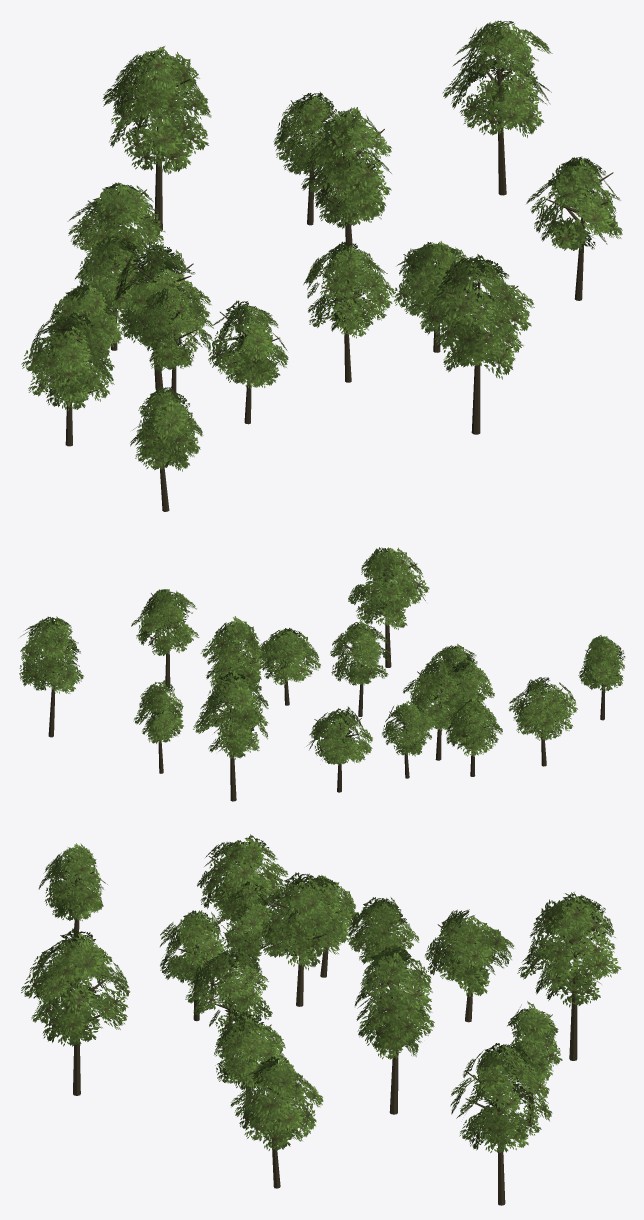
File: TRB8-FOREST-CHUNK-8-1.glb
3 renders of one model, top to bottom at view 1: azimuth 30°, elevation 25°; view 2: azimuth 150°, elevation 25°; view 3: azimuth 270°, elevation 25°, orthographic. The views are drawn at different scales.
Visible parts, largest first — view 1: TRB8-FOREST-CHUNK-8-1; view 2: TRB8-FOREST-CHUNK-8-1; view 3: TRB8-FOREST-CHUNK-8-1.
Part boxes in pixels (box(x1,y1,x2,y2)): TRB8-FOREST-CHUNK-8-1: box(21, 20, 622, 511); TRB8-FOREST-CHUNK-8-1: box(19, 547, 625, 801); TRB8-FOREST-CHUNK-8-1: box(21, 834, 621, 1205).
Size of the model in its own units: 22.57 by 6.45 by 19.64.
2 materials, 1 textured.
